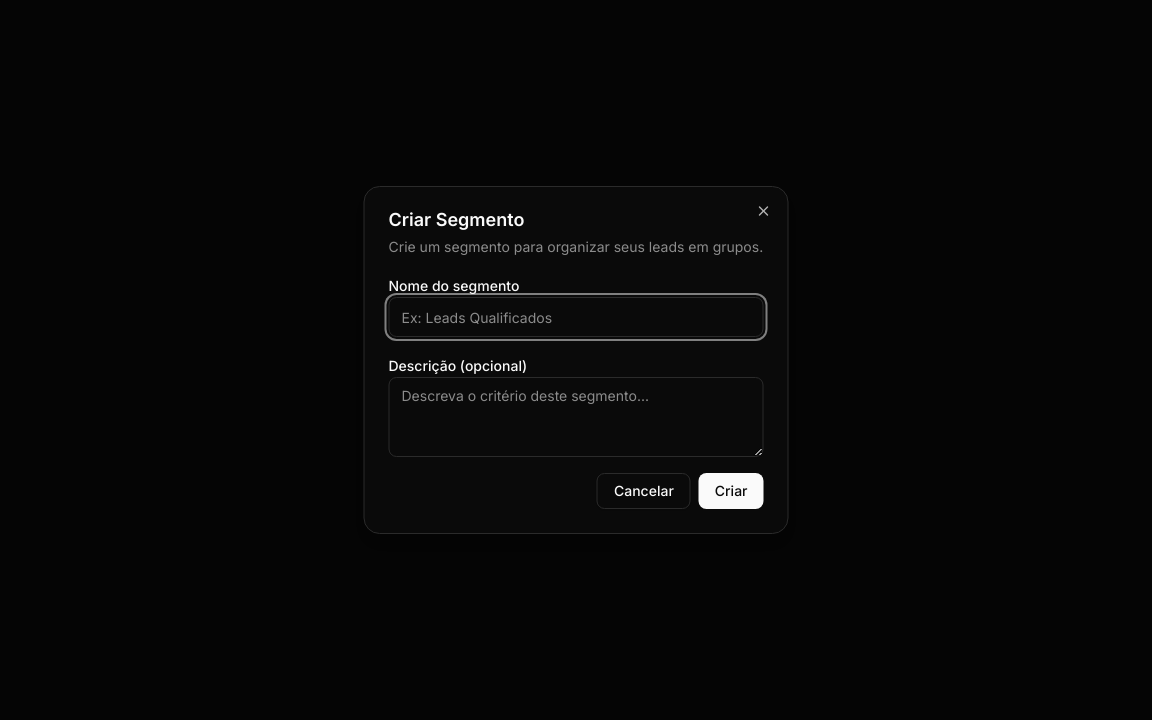
Test: CreateSegmentDialog › Submission (AC: #1) › shows loading state during save
Type "Test" into the field with test id "segment-name-input".
click(576, 317); type("Test")  # box [388,297,764,337]
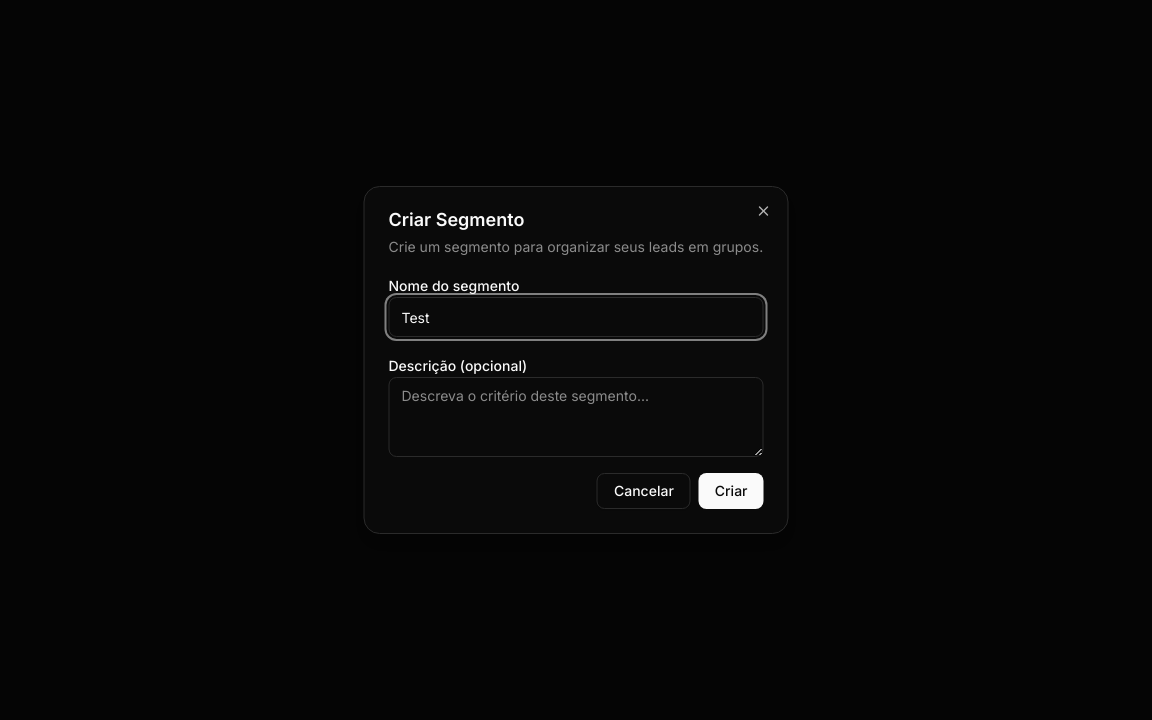
Click the button with test id "create-segment-submit".
click(731, 491)  # box [699,473,764,509]
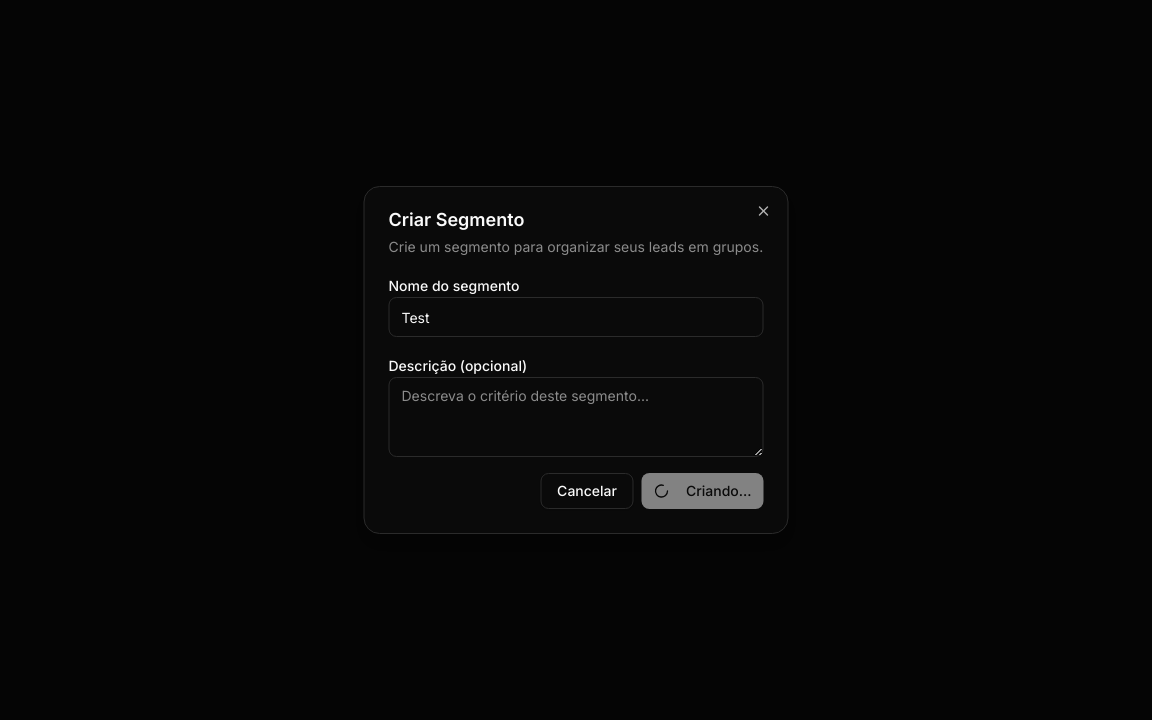
Expected: the button with test id "create-segment-submit" is disabled, [642,473,764,509]
